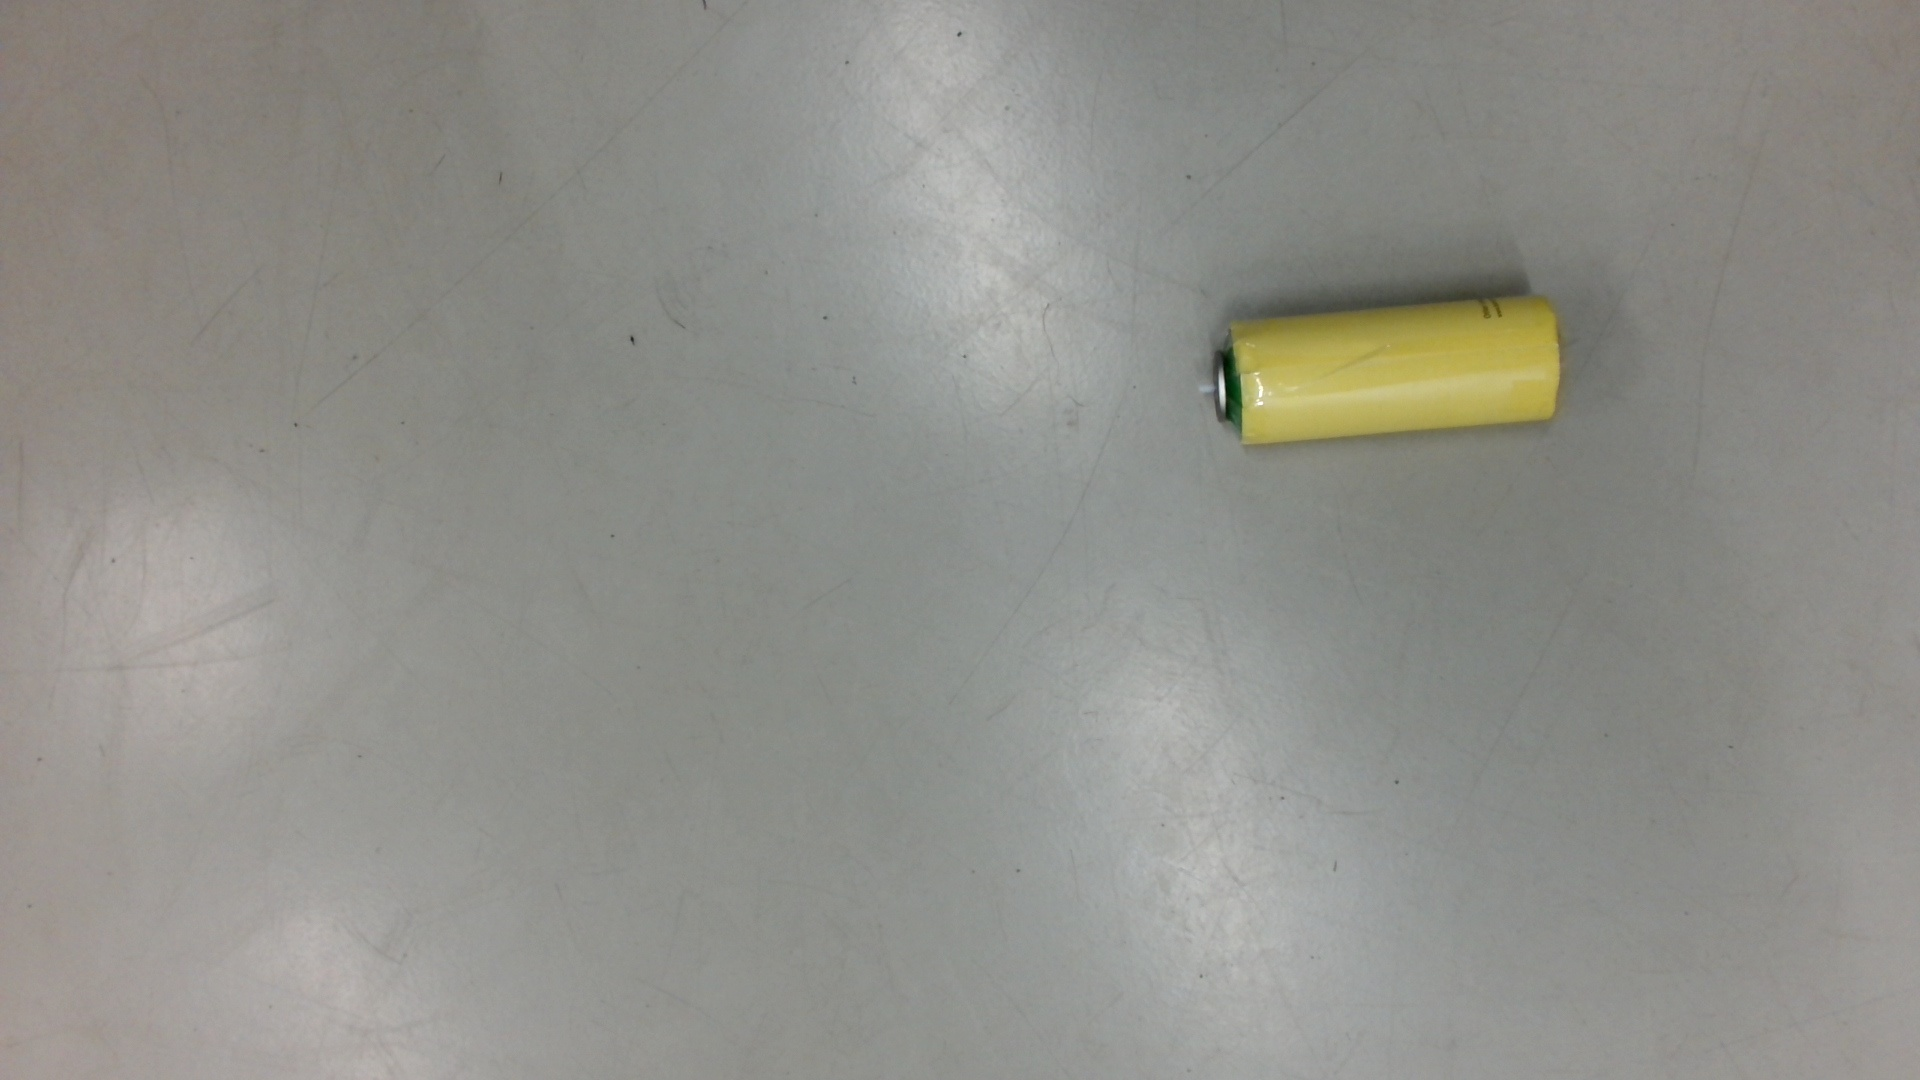Cylinder: (1188, 284, 1580, 458)
